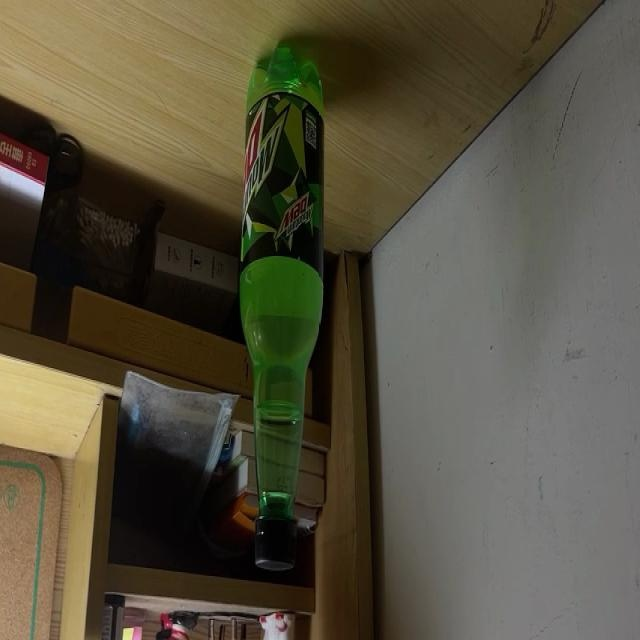Mountain-Dew: (240, 43, 324, 570)
